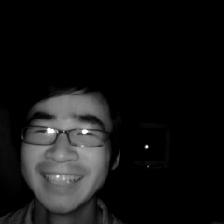happy: (16, 77, 124, 210)
